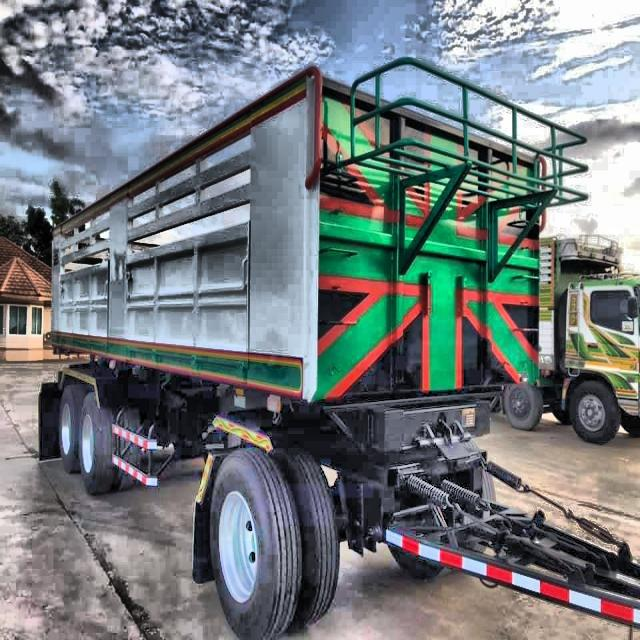trailer: (36, 58, 640, 640)
